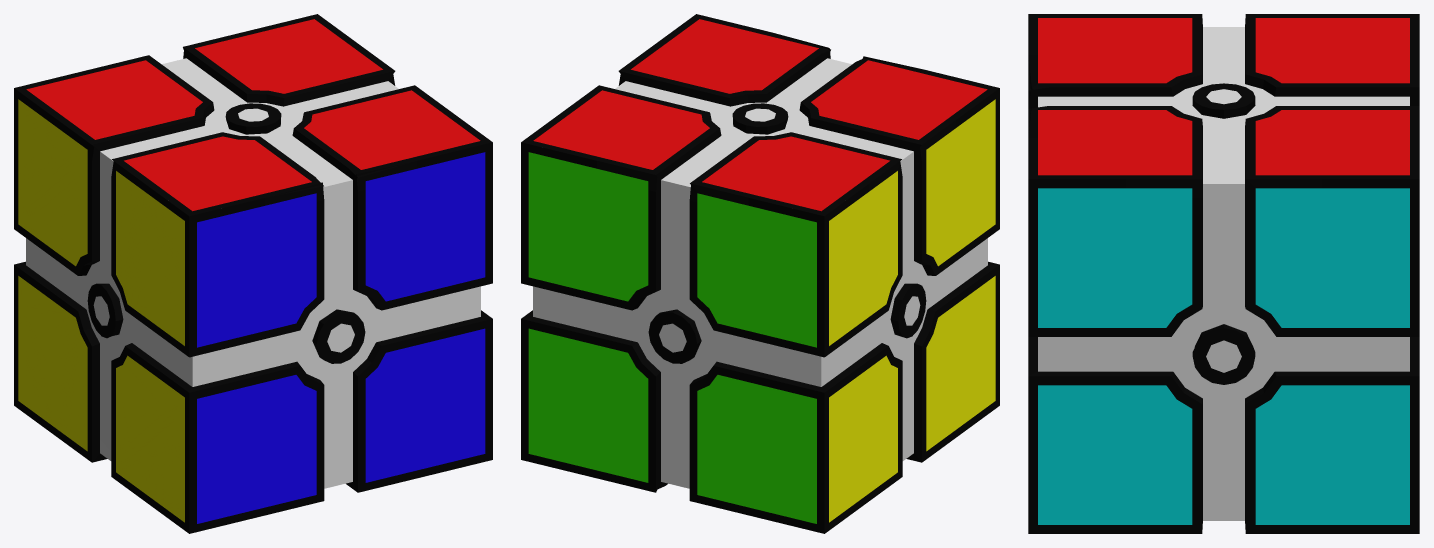
The model's file is cubeF.glb.
3 views of the same model, side by side, from view 1: azimuth 30°, elevation 25°; view 2: azimuth 150°, elevation 25°; view 3: azimuth 270°, elevation 25° (orthographic). The views are drawn at different scales.
Visible parts, largest first — view 1: CubePerpendicular; view 2: CubePerpendicular; view 3: CubePerpendicular.
Boxes of the visible parts, <box> form: CubePerpendicular: <box>14,14,492,533</box>; CubePerpendicular: <box>521,14,999,533</box>; CubePerpendicular: <box>1028,14,1419,533</box>.
Bounding box in the file's own units: 1 × 1 × 1.
